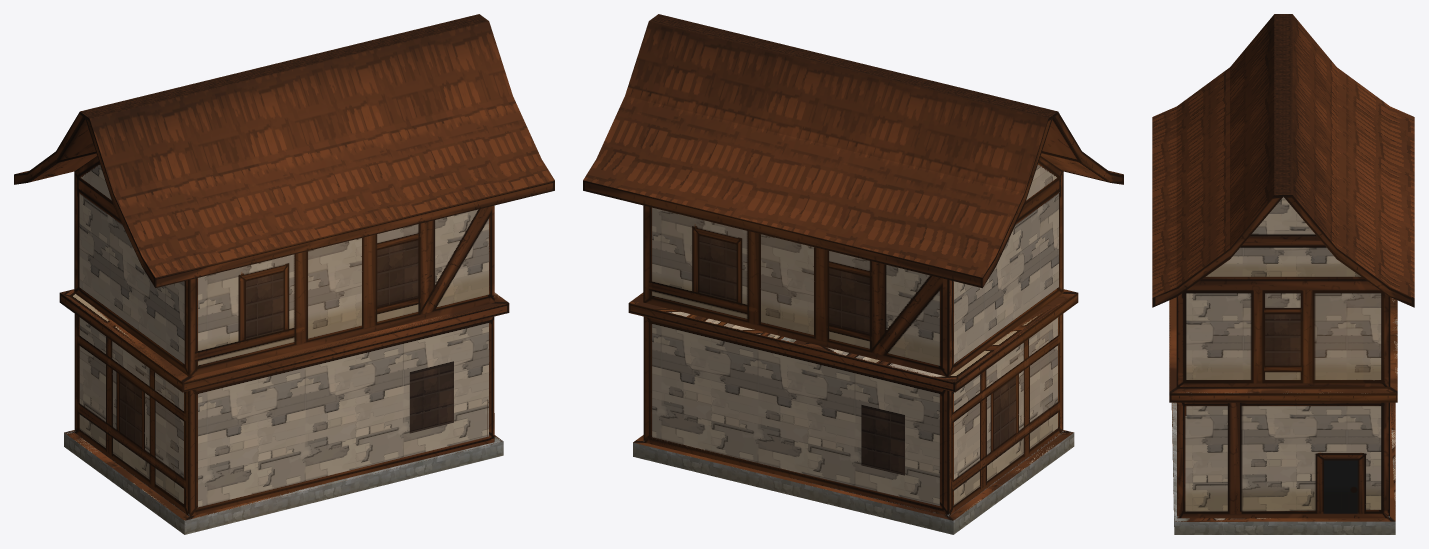
File: House Base1_A.fbx
The picture shows the model from 3 angles, left to right: view 1: azimuth 30°, elevation 25°; view 2: azimuth 150°, elevation 25°; view 3: azimuth 270°, elevation 25°; orthographic projection. The views are drawn at different scales.
Visible parts, largest first — view 1: House Base 1a, House Base 1a_col; view 2: House Base 1a, House Base 1a_col; view 3: House Base 1a, House Base 1a_col.
Part boxes in pixels (x1,y1,x2,y2): House Base 1a: [14, 14, 554, 534]; House Base 1a_col: [60, 157, 504, 520]; House Base 1a: [583, 14, 1123, 534]; House Base 1a_col: [629, 158, 1074, 516]; House Base 1a: [1152, 14, 1414, 534]; House Base 1a_col: [1169, 197, 1397, 521].
Bounding box in the file's own units: 1517 × 1398 × 929.
